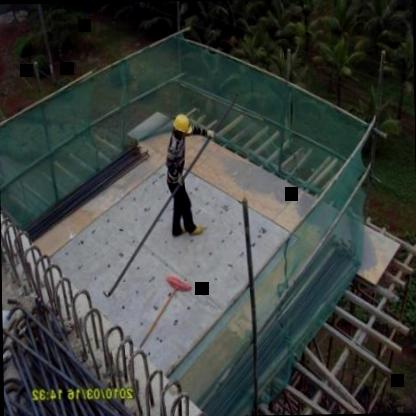helmet: (169, 113, 191, 144)
